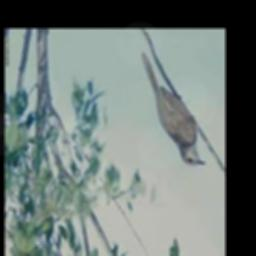Cuckoo: (141, 51, 206, 165)
